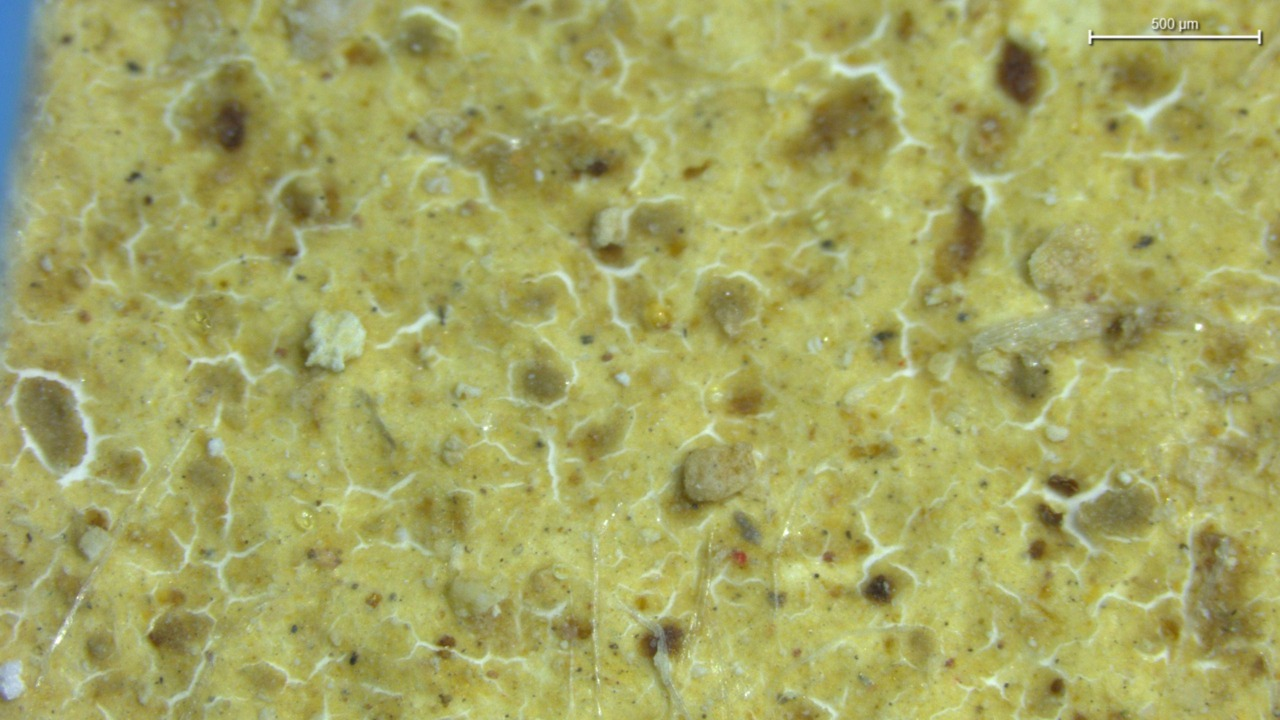microplastic_fragment: (1029, 224, 1105, 303), (680, 443, 756, 503), (304, 310, 366, 372)
